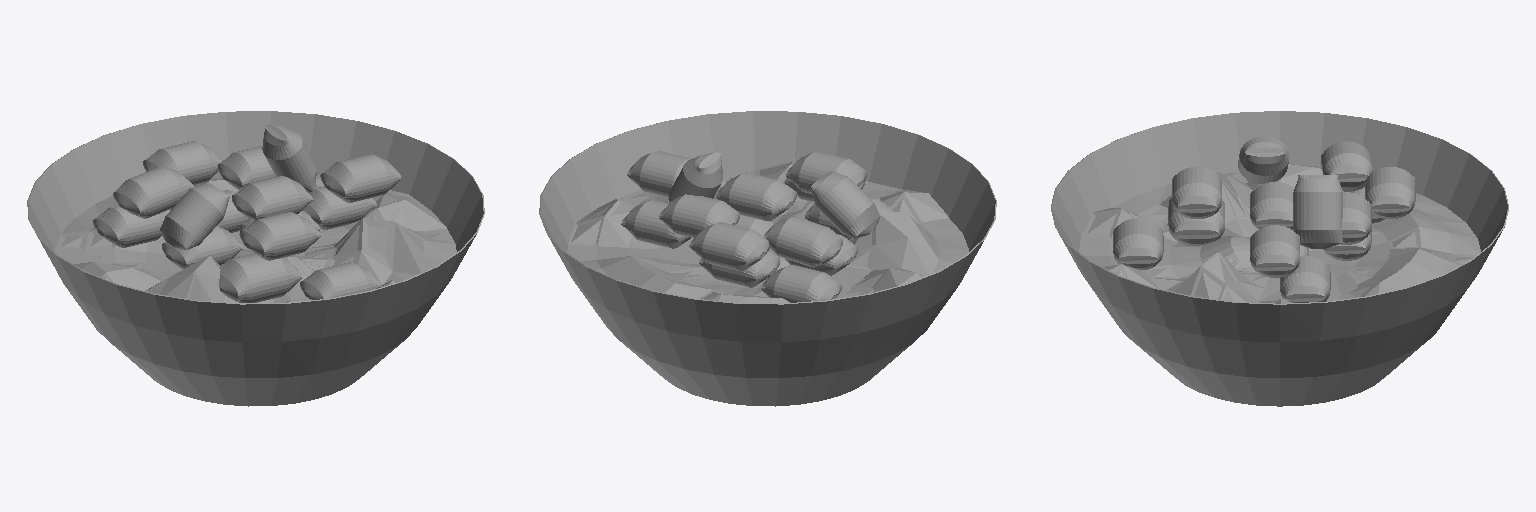
Rendered from noccioline.obj.
3 views of the same model, side by side, from view 1: azimuth 30°, elevation 25°; view 2: azimuth 150°, elevation 25°; view 3: azimuth 270°, elevation 25° (orthographic).
Visible parts, largest first — view 1: Ciotola_Cylinder.005, Noccioline_Cylinder.006; view 2: Ciotola_Cylinder.005, Noccioline_Cylinder.006; view 3: Ciotola_Cylinder.005, Noccioline_Cylinder.006.
Part boxes in pixels (x1,y1,x2,y2): Ciotola_Cylinder.005: (27, 111, 484, 406); Noccioline_Cylinder.006: (55, 124, 456, 302); Ciotola_Cylinder.005: (539, 111, 996, 406); Noccioline_Cylinder.006: (567, 151, 968, 302); Ciotola_Cylinder.005: (1051, 111, 1508, 406); Noccioline_Cylinder.006: (1079, 136, 1480, 303).
Bounding box in the file's own units: 0.816 × 0.4008 × 0.816.